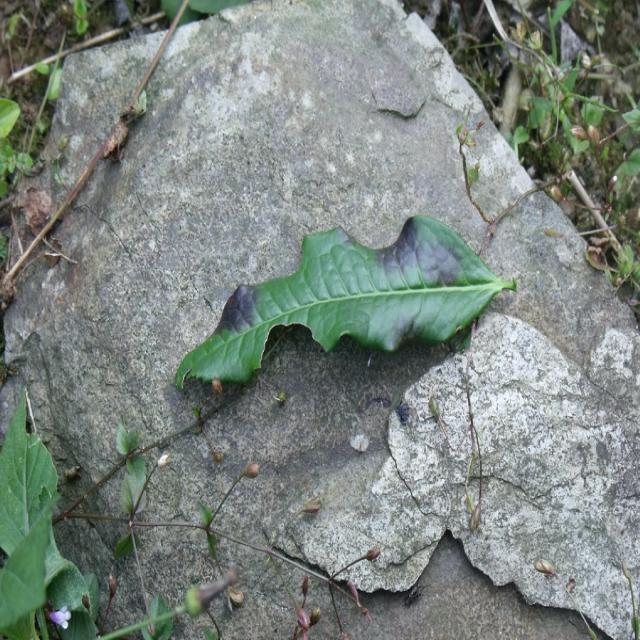Tea exobasidium blight: (360, 193, 462, 289), (216, 266, 266, 340)
